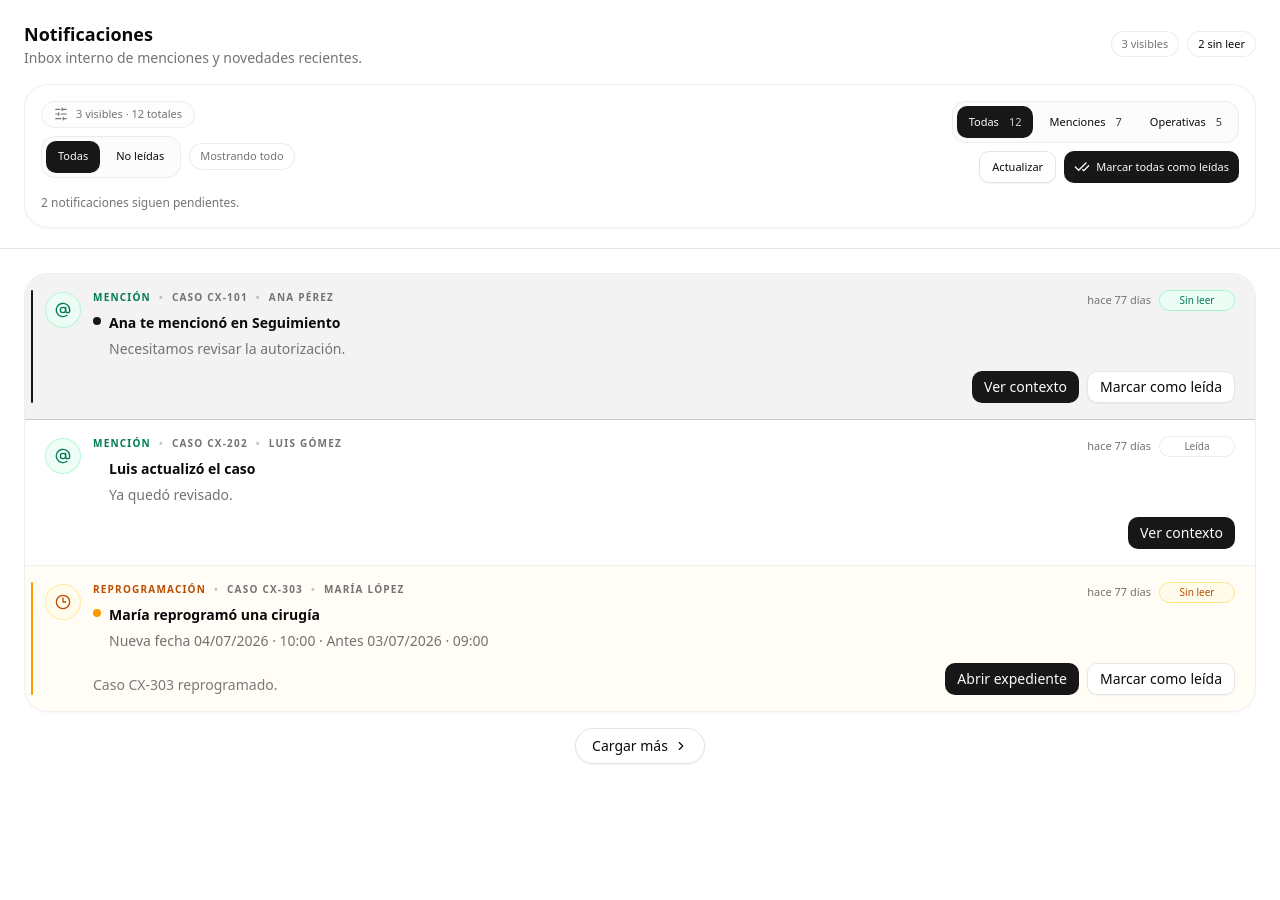
Test: NotificationsInbox › permite cambiar entre Todas y No leídas con datos reales del hook
Expected: the text "Luis actualizó el caso" is shown, [109,459,256,478]
Click the button "No leídas": (140, 156) [104,140,176,172]
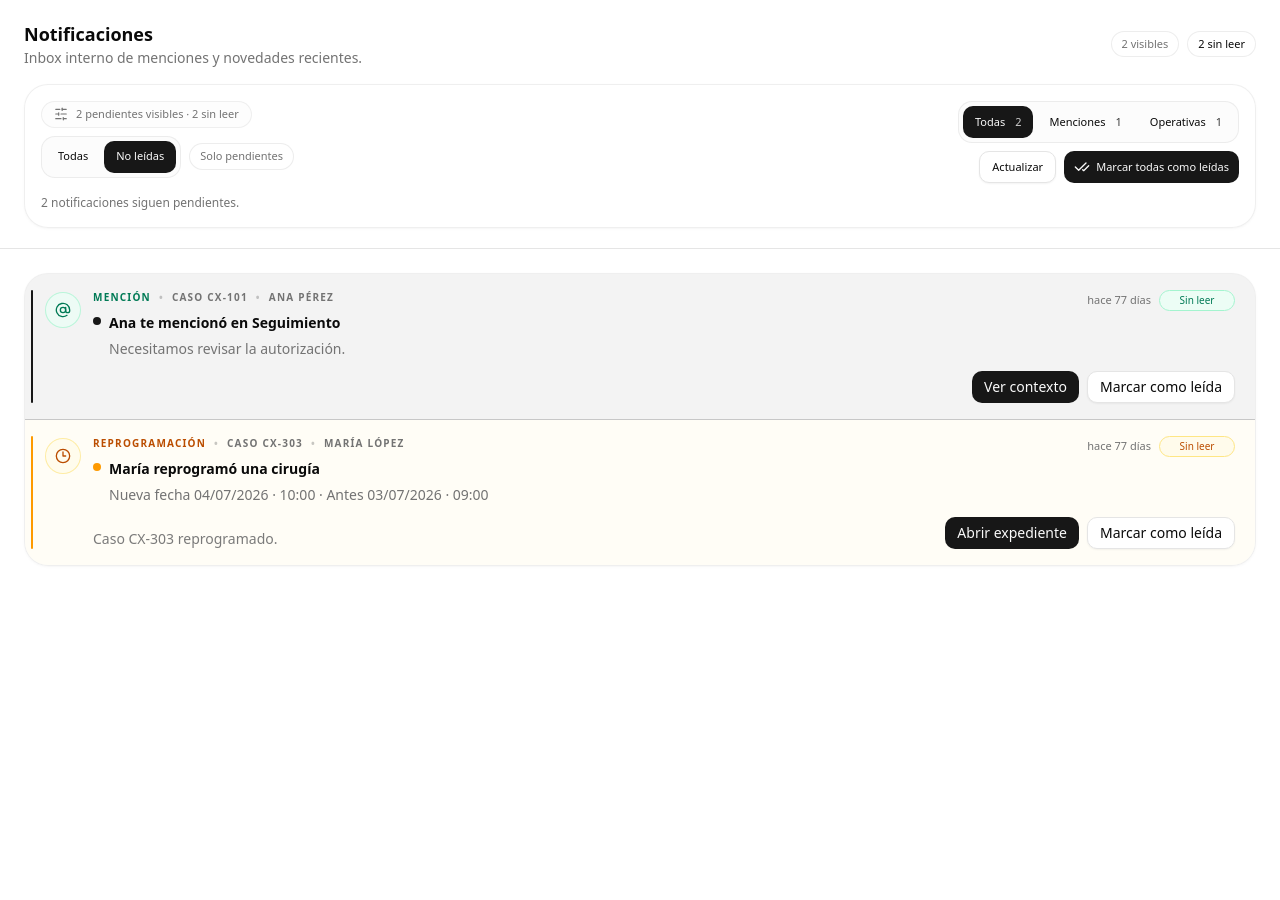
Expected: the text "Ana te mencionó en Seguimiento" is shown, [109,313,340,332]
Expected: the text "Luis actualizó el caso" is gone
